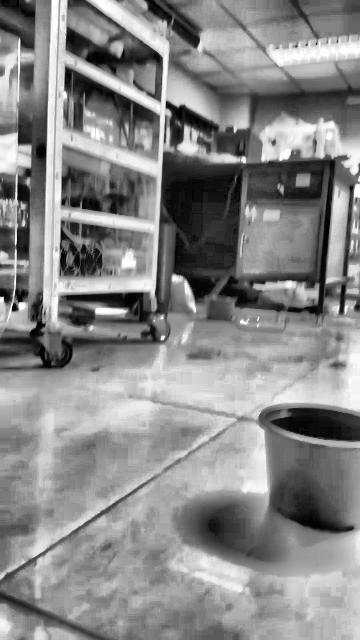pot: (259, 404, 360, 532)
